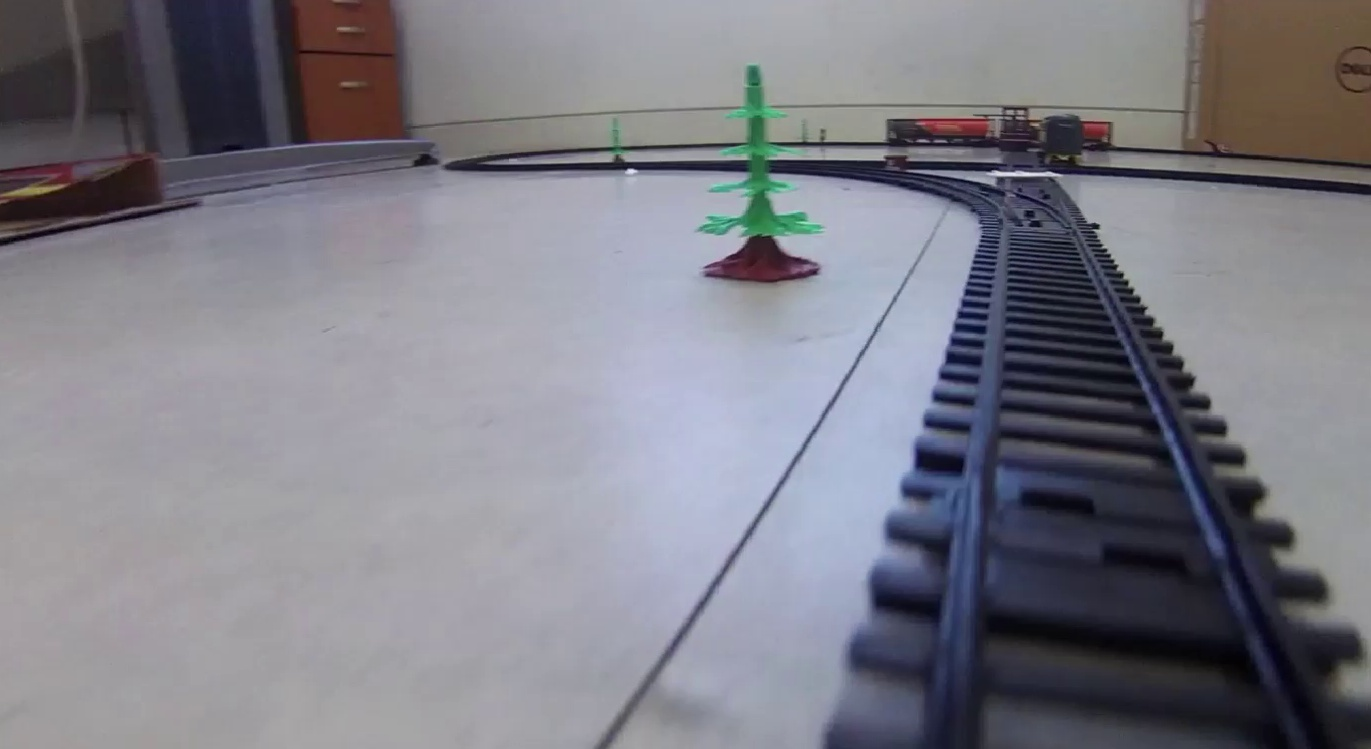tree: (697, 63, 822, 283)
